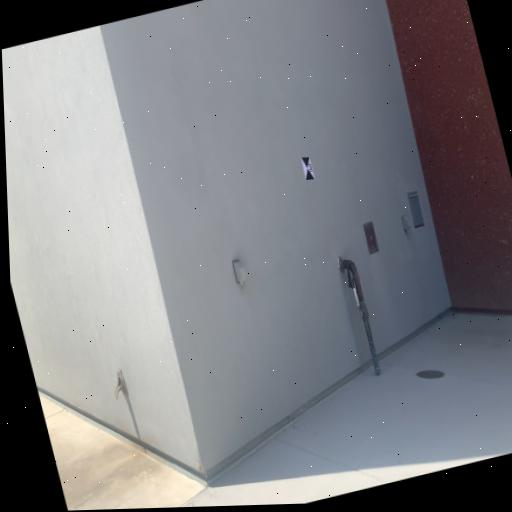target3: (300, 154, 315, 182)
